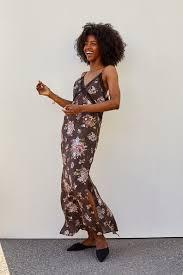dress: (57, 67, 119, 253)
